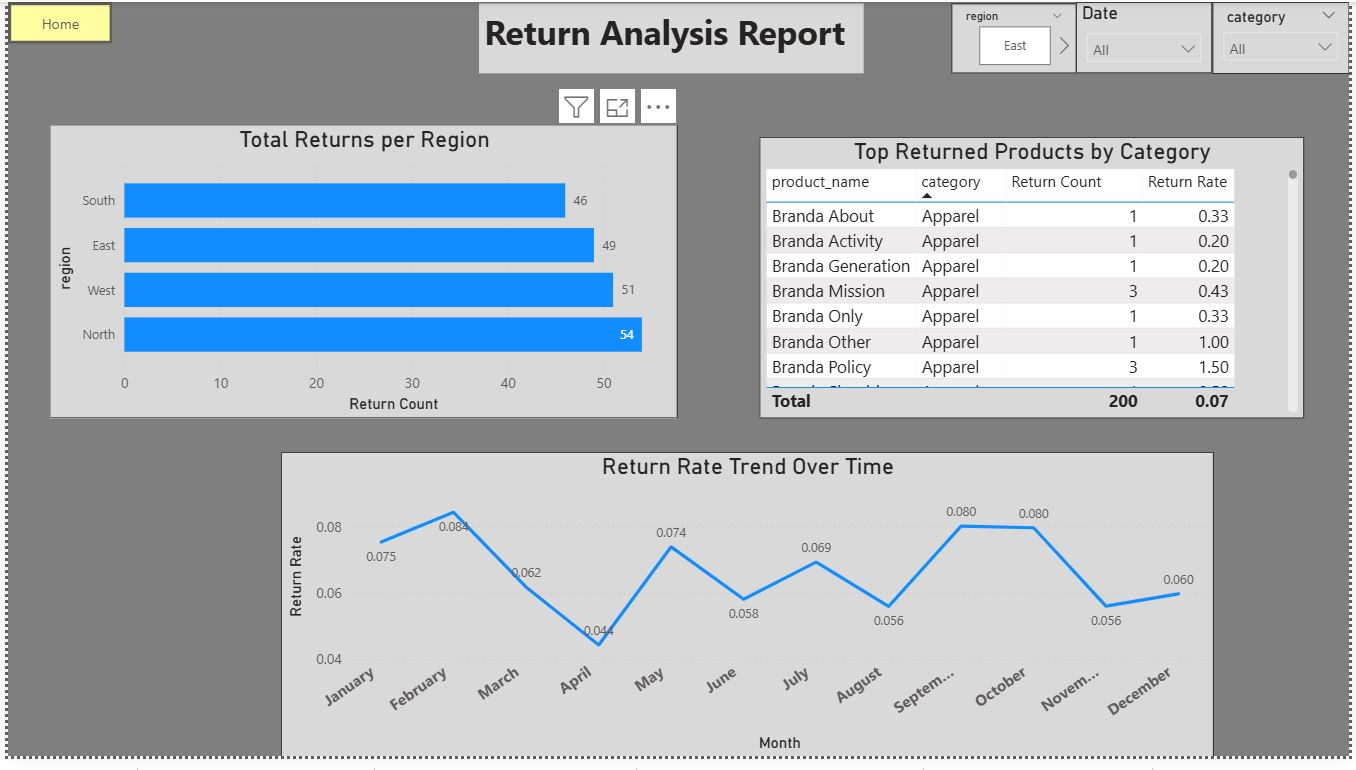

The page's visual inventory and layout, read from the dashboard file:
{"tool":"powerbi","page":{"name":"Return Analysis Report","canvas":[1280,720],"ordinal":5},"visuals":[{"type":"lineChart","title":"Return Rate Trend Over Time","fields":{"Category":["sales_cleaned.order_date.Variation.Date Hierarchy.Month"],"Y":["customers_cleaned.Return Rate"]},"box":[260.9,429.5,890.7,291.1],"z":0},{"type":"tableEx","title":"Top Returned Products by Category","fields":{"Values":["products_cleaned.product_name","products_cleaned.category","customers_cleaned.Return Count","customers_cleaned.Return Rate"]},"box":[717.4,128.8,520.1,268.8],"z":1000},{"type":"barChart","title":"Total Returns per Region","fields":{"Category":["customers_cleaned.region"],"Y":["customers_cleaned.Return Count"]},"box":[39.8,117.7,599.7,279.9],"z":2000},{"type":"slicer","fields":{"Values":["products_cleaned.category"]},"box":[1150,0,130.4,68.4],"z":3000},{"type":"slicer","title":"Date","fields":{"Values":["sales_cleaned.order_date.Variation.Date Hierarchy.Year","sales_cleaned.order_date.Variation.Date Hierarchy.Quarter","sales_cleaned.order_date.Variation.Date Hierarchy.Month"]},"box":[1020.5,0,130.3,68.2],"z":4000},{"type":"slicer","fields":{"Values":["customers_cleaned.region"]},"box":[901.1,1.6,119.4,66.7],"z":5000},{"type":"textbox","box":[450.1,1.6,367.4,66.8],"z":6000},{"type":"actionButton","box":[0,0,100,40],"z":7000}]}

Visuals, with their boxes in screenshot pixels (x1, y1, x2, y2), scaled from the page's 1280x720 canvas onto the 1356x770 screenshot:
"Return Rate Trend Over Time" lineChart: [left=276, top=459, right=1220, bottom=769]
"Top Returned Products by Category" tableEx: [left=760, top=138, right=1311, bottom=425]
"Total Returns per Region" barChart: [left=42, top=126, right=677, bottom=425]
slicer - products_cleaned.category: [left=1218, top=0, right=1355, bottom=73]
"Date" slicer: [left=1081, top=0, right=1219, bottom=73]
slicer - customers_cleaned.region: [left=955, top=2, right=1081, bottom=73]
textbox: [left=477, top=2, right=866, bottom=73]
actionButton: [left=0, top=0, right=106, bottom=43]
